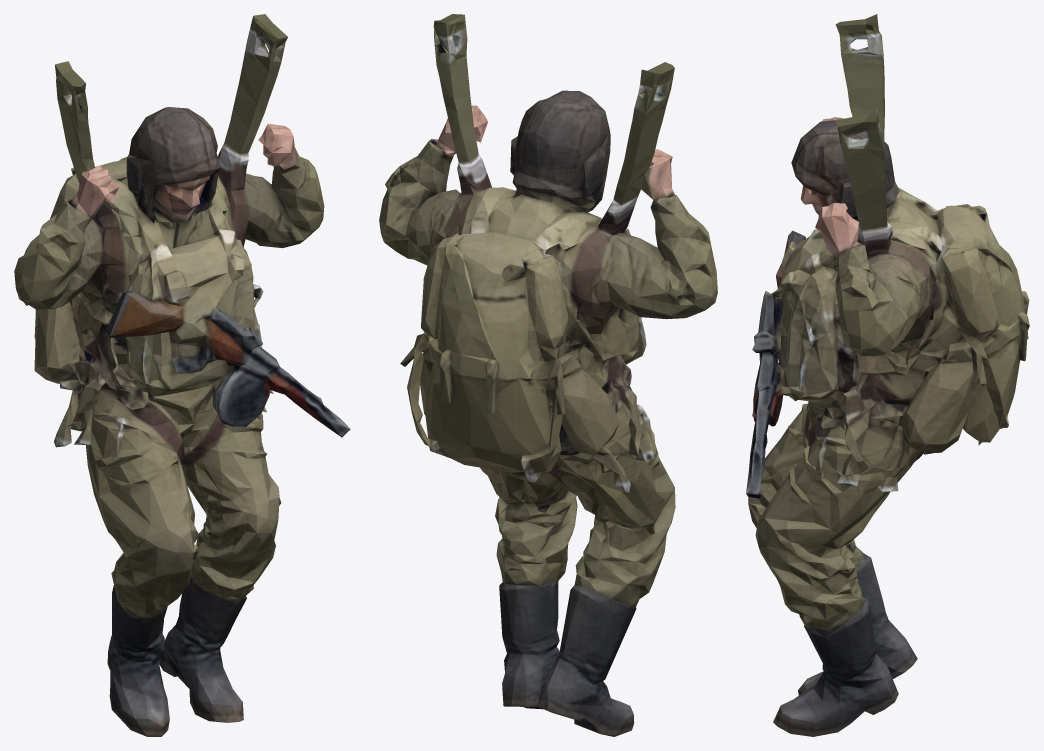
Rendered from para_su.obj.
3 renders of one model, left to right at view 1: azimuth 30°, elevation 25°; view 2: azimuth 150°, elevation 25°; view 3: azimuth 270°, elevation 25°, orthographic. The views are drawn at different scales.
Visible parts, largest first — view 1: para_su; view 2: para_su; view 3: para_su.
Boxes of the visible parts, x1,y1,x2,y2 form: para_su: (14,14,350,736); para_su: (379,14,717,736); para_su: (746,14,1029,736).
Bounding box in the file's own units: 1.22 × 2.5 × 0.9831.
Materials: 1 (1 with a texture image).
